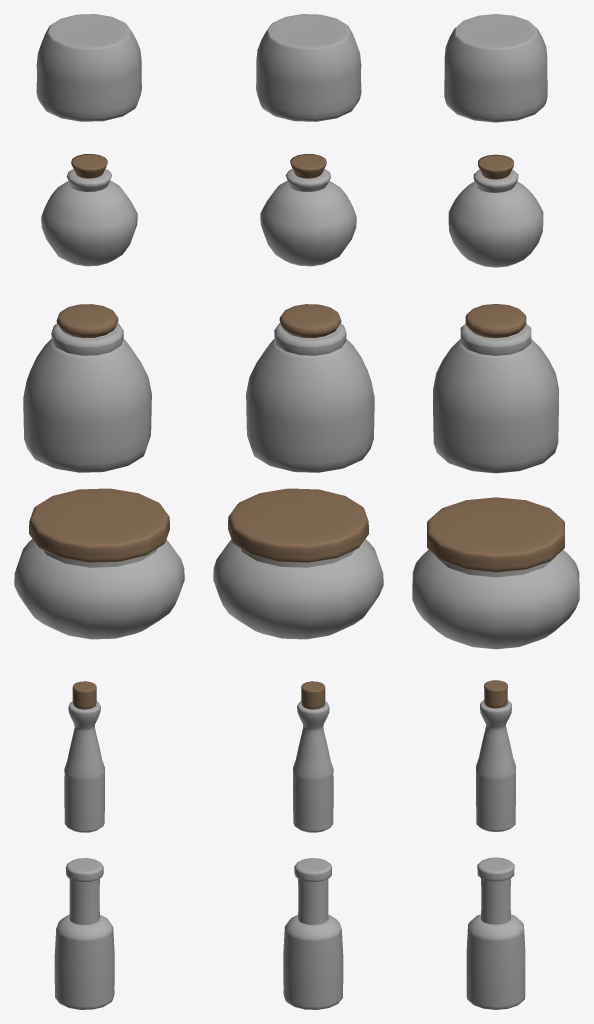
The model's file is prop_potions2.fbx.
3 views of the same model, side by side, from view 1: azimuth 30°, elevation 25°; view 2: azimuth 150°, elevation 25°; view 3: azimuth 270°, elevation 25° (orthographic).
Parts seen in each view (by area): view 1: prop_bottle3, prop_bottle1, prop_bottle2_int, prop_bottle2, prop_bottle5, prop_bottle4; view 2: prop_bottle3, prop_bottle1, prop_bottle2_int, prop_bottle2, prop_bottle5, prop_bottle4; view 3: prop_bottle3, prop_bottle1, prop_bottle2_int, prop_bottle2, prop_bottle5, prop_bottle4.
Boxes of the visible parts, x1=… form: prop_bottle3: x1=14, y1=488, x2=184, y2=639; prop_bottle1: x1=23, y1=304, x2=151, y2=472; prop_bottle2_int: x1=36, y1=14, x2=141, y2=121; prop_bottle2: x1=41, y1=154, x2=137, y2=266; prop_bottle5: x1=54, y1=858, x2=114, y2=1009; prop_bottle4: x1=64, y1=681, x2=104, y2=832; prop_bottle3: x1=213, y1=488, x2=383, y2=639; prop_bottle1: x1=246, y1=304, x2=374, y2=472; prop_bottle2_int: x1=256, y1=14, x2=361, y2=121; prop_bottle2: x1=260, y1=154, x2=356, y2=266; prop_bottle5: x1=283, y1=858, x2=343, y2=1009; prop_bottle4: x1=293, y1=681, x2=333, y2=832; prop_bottle3: x1=412, y1=497, x2=579, y2=649; prop_bottle1: x1=433, y1=304, x2=558, y2=473; prop_bottle2_int: x1=444, y1=14, x2=547, y2=122; prop_bottle2: x1=448, y1=154, x2=543, y2=267; prop_bottle5: x1=466, y1=857, x2=525, y2=1009; prop_bottle4: x1=476, y1=680, x2=515, y2=831.
Size of the model in its own units: 0.9173 by 5.73 by 0.8943.
